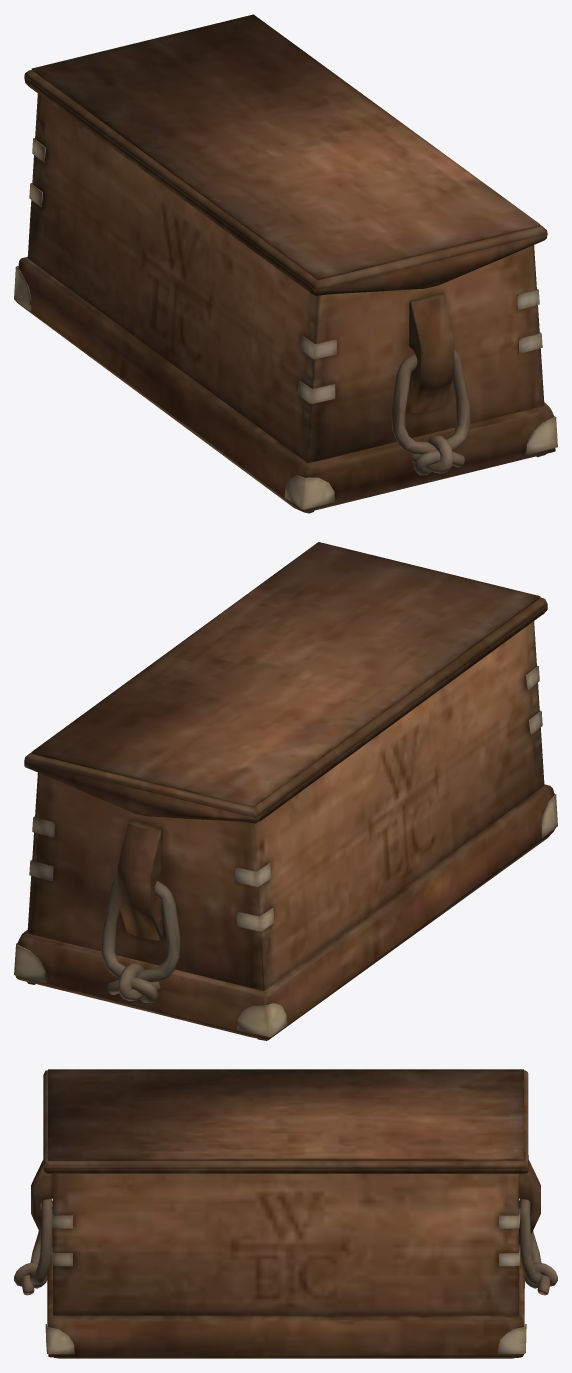
The model's file is wooden_crate_02_lod1.glb.
The picture shows the model from 3 angles, top to bottom: view 1: azimuth 30°, elevation 25°; view 2: azimuth 150°, elevation 25°; view 3: azimuth 270°, elevation 25°; orthographic projection. The views are drawn at different scales.
Parts seen in each view (by area): view 1: wooden_crate_02_crate; view 2: wooden_crate_02_crate; view 3: wooden_crate_02_crate.
Boxes of the visible parts, x1,y1,x2,y2 form: wooden_crate_02_crate: (14, 14, 557, 513); wooden_crate_02_crate: (14, 542, 557, 1040); wooden_crate_02_crate: (14, 1069, 557, 1358).
Size of the model in its own units: 0.5291 by 0.4639 by 1.17.
Materials: 1 (1 with a texture image).
